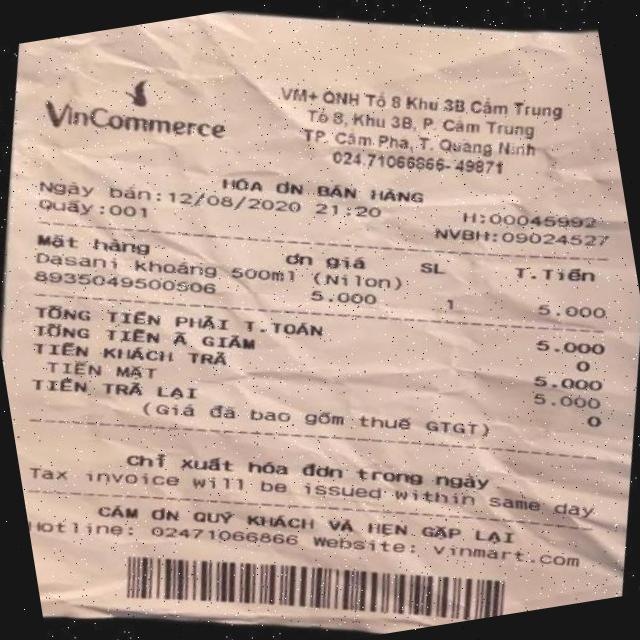Date: (164, 166, 306, 237)
Store_Name: (36, 67, 240, 178)
amount_number: (530, 321, 612, 369)
label_total: (29, 252, 328, 386)
